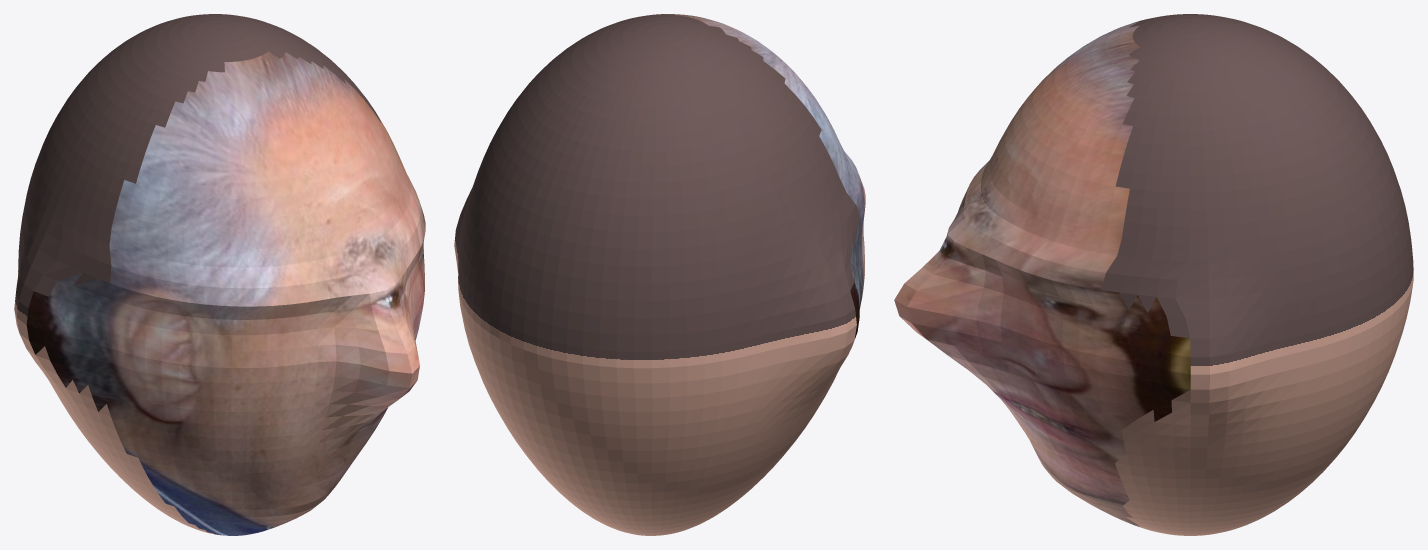
3 renders of one model, left to right at view 1: azimuth 30°, elevation 25°; view 2: azimuth 150°, elevation 25°; view 3: azimuth 270°, elevation 25°, orthographic.
Parts seen in each view (by area): view 1: geometry_0; view 2: geometry_0; view 3: geometry_0.
Boxes of the visible parts, x1,y1,x2,y2 form: geometry_0: (14, 14, 425, 535); geometry_0: (454, 14, 865, 535); geometry_0: (894, 14, 1413, 535).
Bounding box in the file's own units: 0.1828 × 0.2212 × 0.2081.
1 material, 1 textured.
